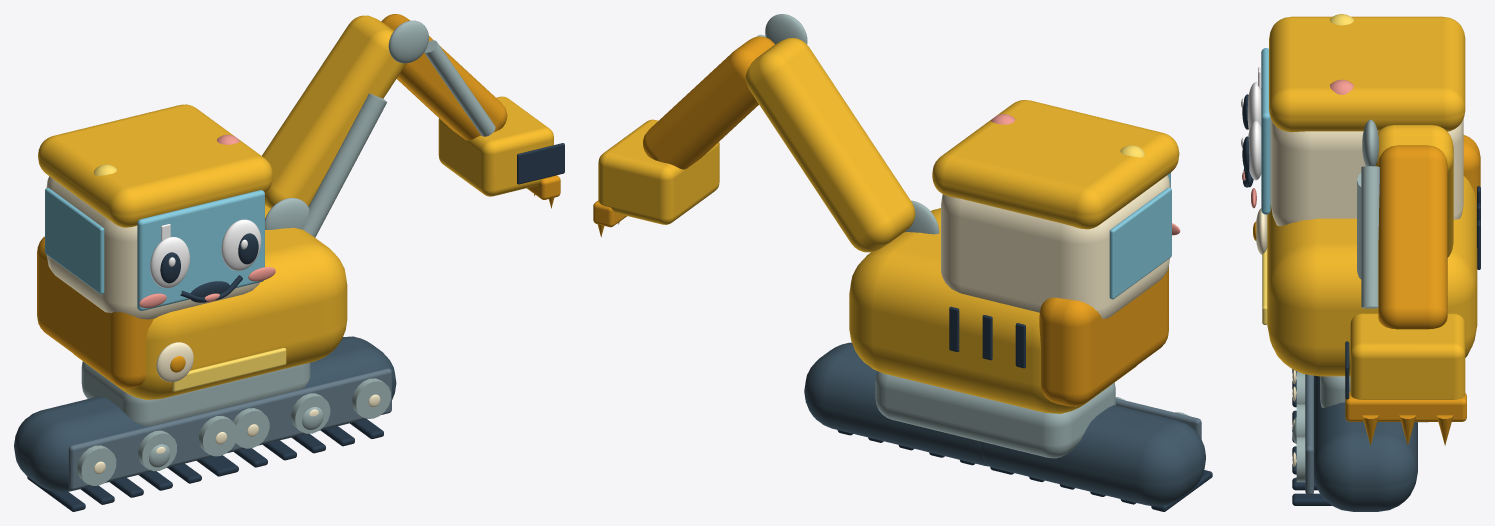
File: sunny-excavator.glb
The picture shows the model from 3 angles, left to right: view 1: azimuth 30°, elevation 25°; view 2: azimuth 150°, elevation 25°; view 3: azimuth 270°, elevation 25°; orthographic projection. The views are drawn at different scales.
Visible parts, largest first — view 1: Cab_Roof, Yellow_Body, Main_Boom, Rubber_Track (×2), Track_Inset (×2), Windshield, Rear_Counterweight, Track_Roller (×6), Scoop_Back, Undercarriage, Cab_Shell, Forearm (+9 smaller); view 2: Yellow_Body, Cab_Roof, Rubber_Track (×2), Cab_Shell, Main_Boom, Rear_Counterweight, Undercarriage, Scoop_Back, Forearm, Side_Window, Elbow_Pin, Track_Inset; view 3: Cab_Roof, Yellow_Body, Forearm, Cab_Shell, Rubber_Track, Scoop_Back, Bucket_Hydraulic, Scoop_Lip, Main_Boom, Windshield, Eye_White (×2), Track_Roller (×3) (+11 smaller).
Boxes of the visible parts, x1,y1,x2,y2 form: Cab_Roof: (38,104,272,227); Yellow_Body: (73,205,347,399); Main_Boom: (262,15,406,208); Rubber_Track (×2): (14,336,396,491); Track_Inset (×2): (68,368,391,490); Windshield: (137,190,264,310); Rear_Counterweight: (37,236,153,388); Track_Roller (×6): (77,378,390,485); Scoop_Back: (438,96,553,196); Undercarriage: (81,361,310,426); Cab_Shell: (46,176,259,319); Forearm: (381,14,507,140); Yellow_Body: (849,208,1137,413); Cab_Roof: (932,100,1179,229); Rubber_Track (×2): (804,342,1205,506); Cab_Shell: (941,175,1170,318); Main_Boom: (745,38,915,252); Rear_Counterweight: (1039,266,1168,406); Undercarriage: (875,371,1115,458); Scoop_Back: (598,119,719,224); Forearm: (643,36,774,169); Side_Window: (1109,187,1171,299); Elbow_Pin: (765,14,807,44); Track_Inset: (1115,398,1201,438); Cab_Roof: (1269,16,1465,132); Yellow_Body: (1267,176,1477,376); Forearm: (1378,145,1447,329); Cab_Shell: (1270,118,1463,226); Rubber_Track: (1314,376,1417,511); Scoop_Back: (1350,313,1465,399); Bucket_Hydraulic: (1361,166,1379,308); Scoop_Lip: (1345,391,1466,421); Main_Boom: (1375,125,1453,257); Windshield: (1261,48,1270,214); Eye_White (×2): (1247,82,1261,180); Track_Roller (×3): (1296,371,1305,482).
Bounding box in the file's own units: 2.03 × 1.36 × 0.709.
